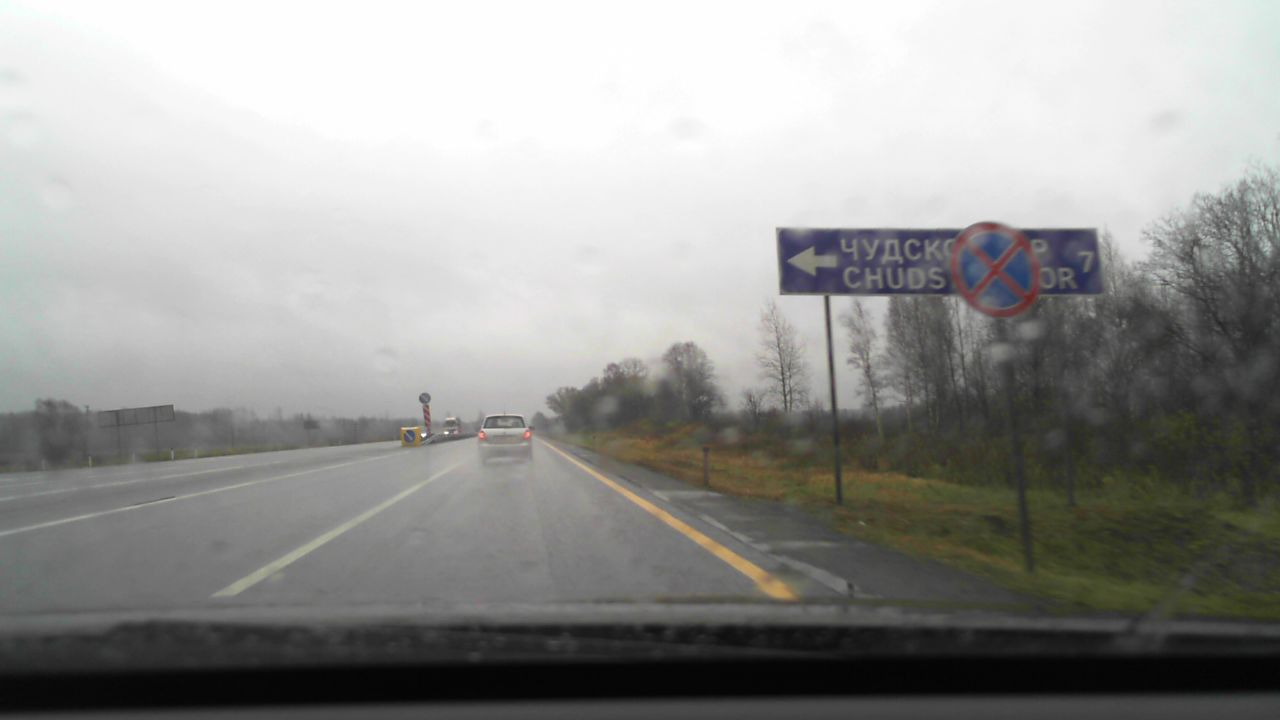No Parking: (949, 221, 1040, 318)
